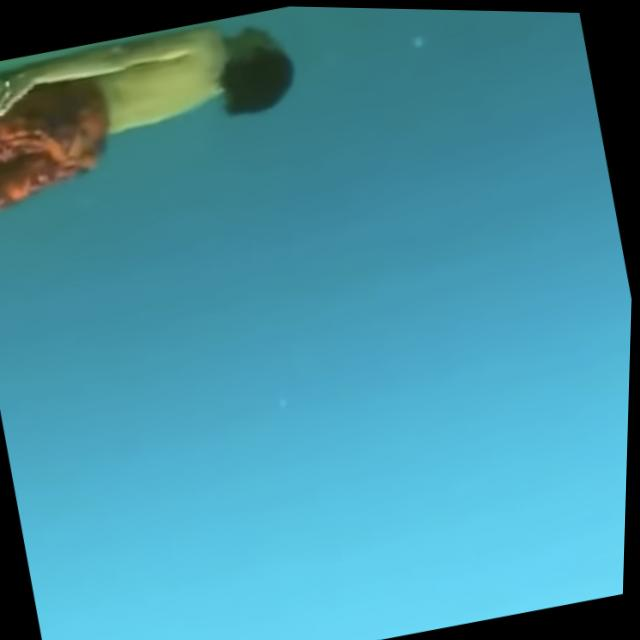human: (0, 3, 337, 307)
